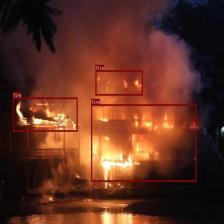fire: (91, 104, 196, 182), (12, 97, 78, 131), (96, 70, 142, 95)
